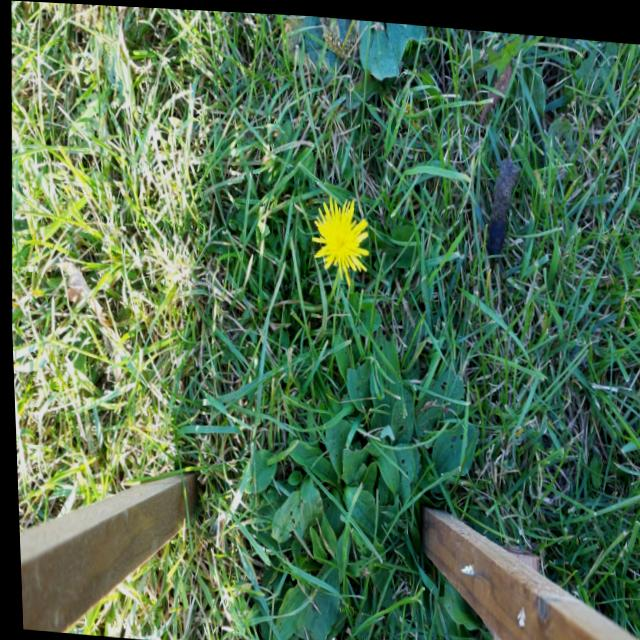base: (294, 288, 311, 319)
flower: (309, 191, 369, 272)
